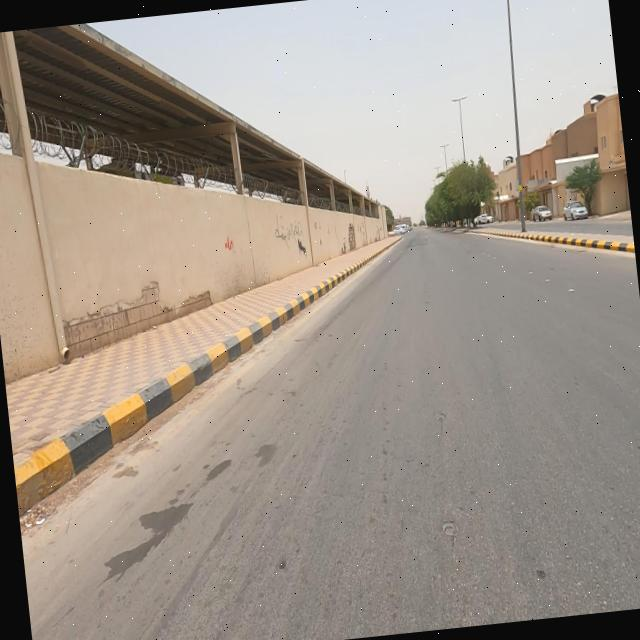Graffiti: (274, 212, 308, 263), (224, 236, 237, 252), (314, 221, 319, 231)
